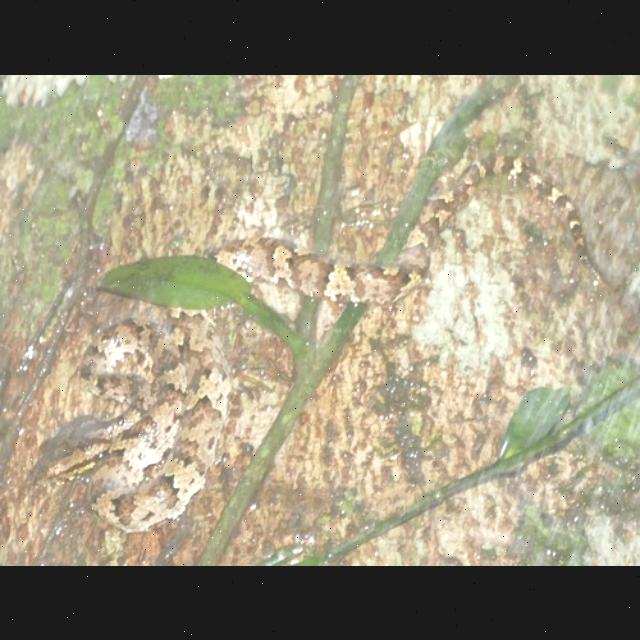snake: (46, 191, 622, 534)
